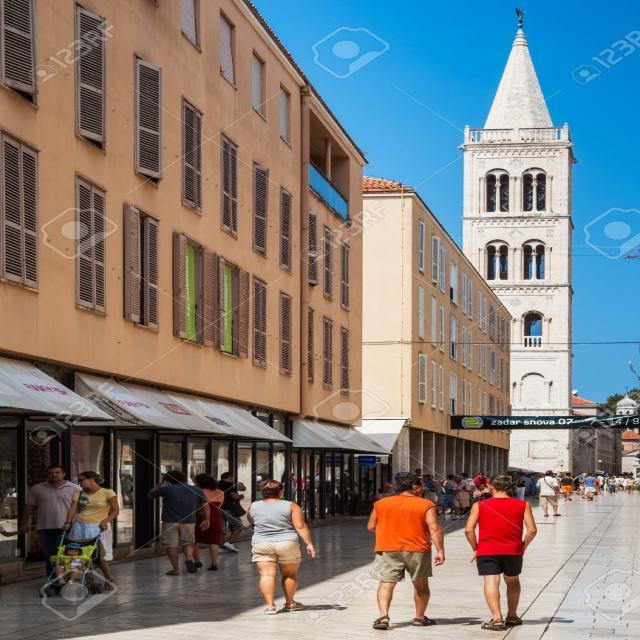body: (362, 473, 446, 630), (460, 472, 540, 633), (245, 478, 318, 616), (18, 464, 85, 586), (143, 468, 212, 576), (60, 469, 120, 592), (288, 470, 395, 518), (191, 472, 227, 572), (214, 470, 248, 555), (0, 478, 26, 543), (53, 542, 88, 586), (534, 468, 562, 517), (446, 474, 472, 520), (117, 470, 136, 506), (440, 474, 455, 514), (443, 473, 457, 515), (582, 473, 599, 502), (559, 472, 575, 502), (592, 468, 640, 478), (422, 474, 439, 502), (572, 473, 588, 497), (472, 472, 491, 490), (514, 476, 528, 500), (520, 472, 533, 497), (459, 472, 476, 491), (530, 471, 541, 500), (472, 482, 491, 498), (253, 471, 269, 489), (381, 477, 393, 498), (552, 472, 562, 495), (624, 476, 636, 494), (233, 478, 247, 492), (607, 475, 617, 494), (596, 473, 606, 491), (613, 474, 622, 493), (185, 472, 194, 486), (412, 468, 422, 480), (618, 477, 626, 492), (420, 470, 426, 487), (556, 472, 567, 481), (71, 472, 78, 485), (634, 477, 640, 491), (602, 478, 608, 491), (538, 472, 546, 478)
